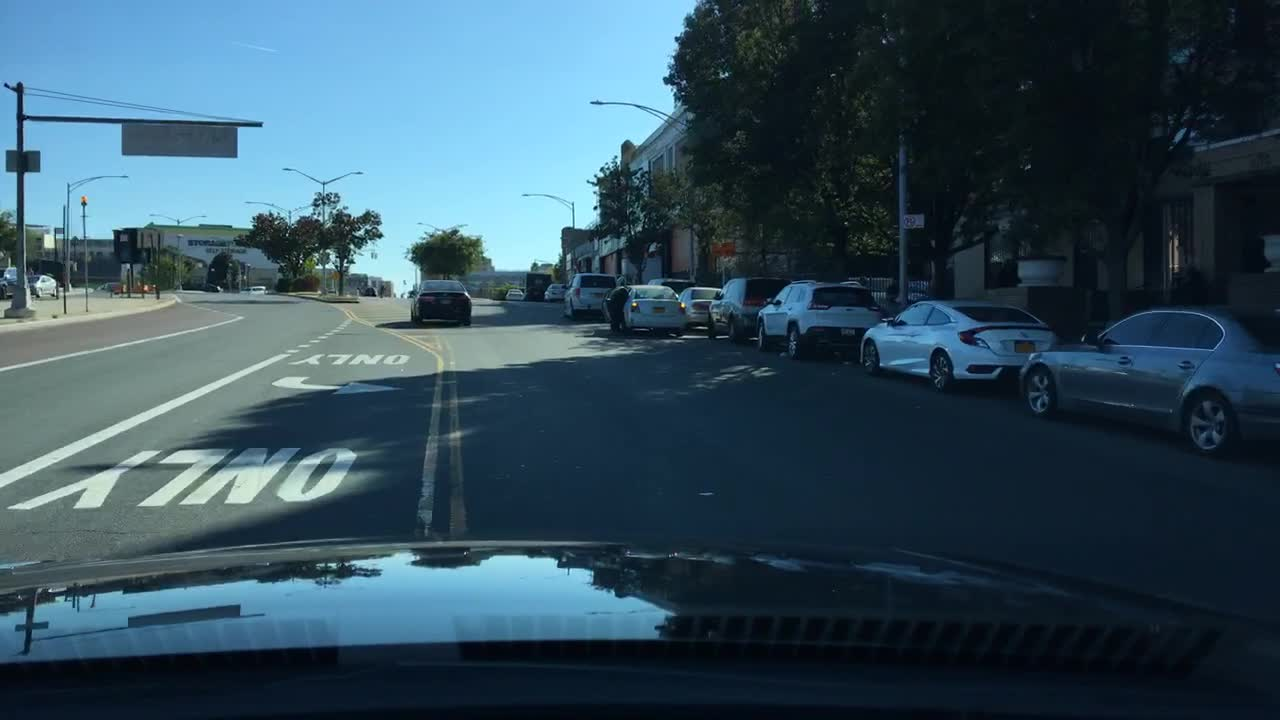car: (1020, 306, 1277, 461), (856, 300, 1052, 392), (756, 281, 887, 359), (705, 278, 803, 342), (603, 281, 686, 335), (406, 281, 474, 326), (563, 268, 616, 319), (679, 285, 722, 331), (647, 276, 695, 293), (30, 276, 58, 297), (1, 264, 17, 300), (543, 282, 568, 297), (504, 286, 527, 302), (202, 283, 221, 292), (240, 285, 264, 292), (362, 285, 378, 295)
person: (605, 282, 633, 337)
traffic sign: (120, 123, 237, 160), (5, 150, 42, 173), (710, 240, 734, 257), (904, 216, 926, 228)
